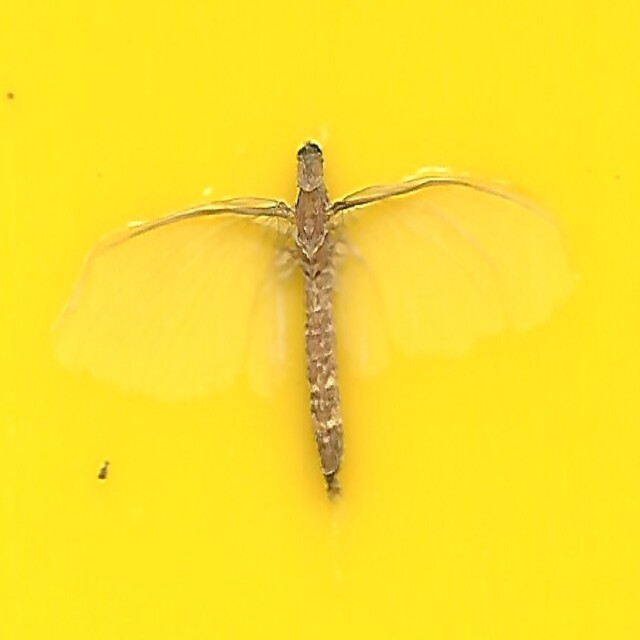Ephemeroptera: (73, 138, 567, 502)
